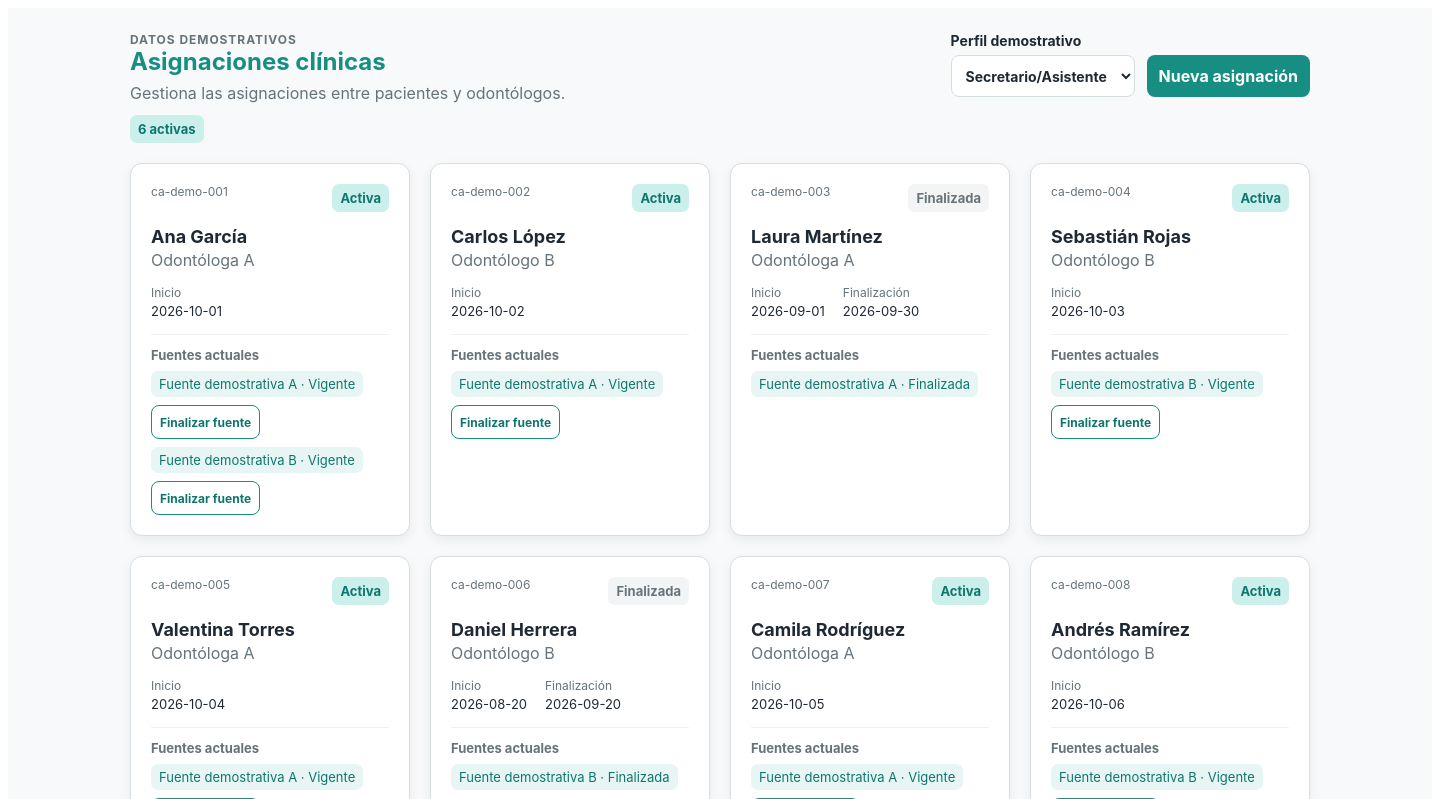
Test case: ClinicalAssignmentsPageComponent › does not expose management controls to the dentist demonstration profile
Select "Odontólogo" in the dropdown labelled "Perfil demostrativo" at (1043, 76), box [951, 55, 1135, 97]
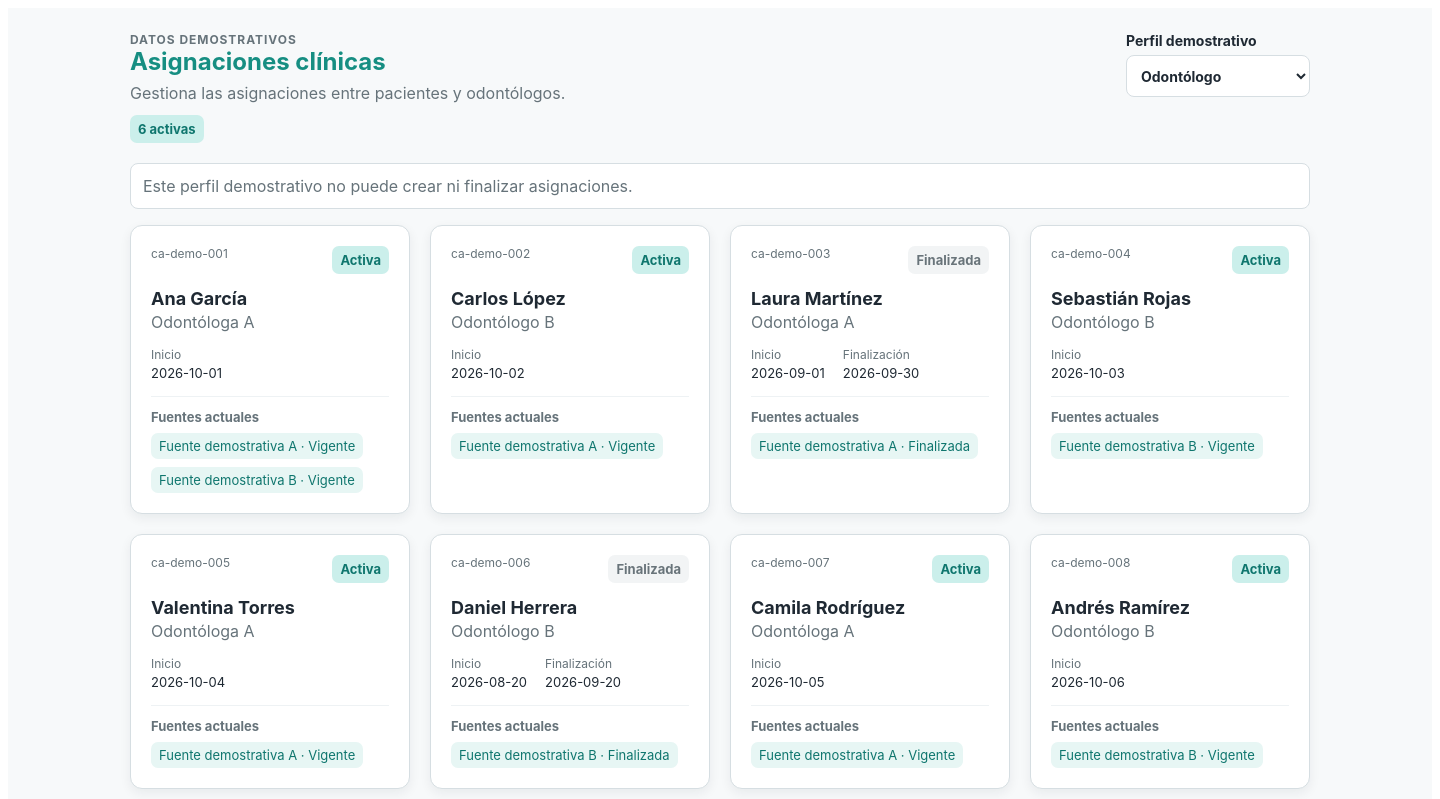
Expected: the text "no puede crear ni finalizar" is shown, [143, 176, 633, 196]
